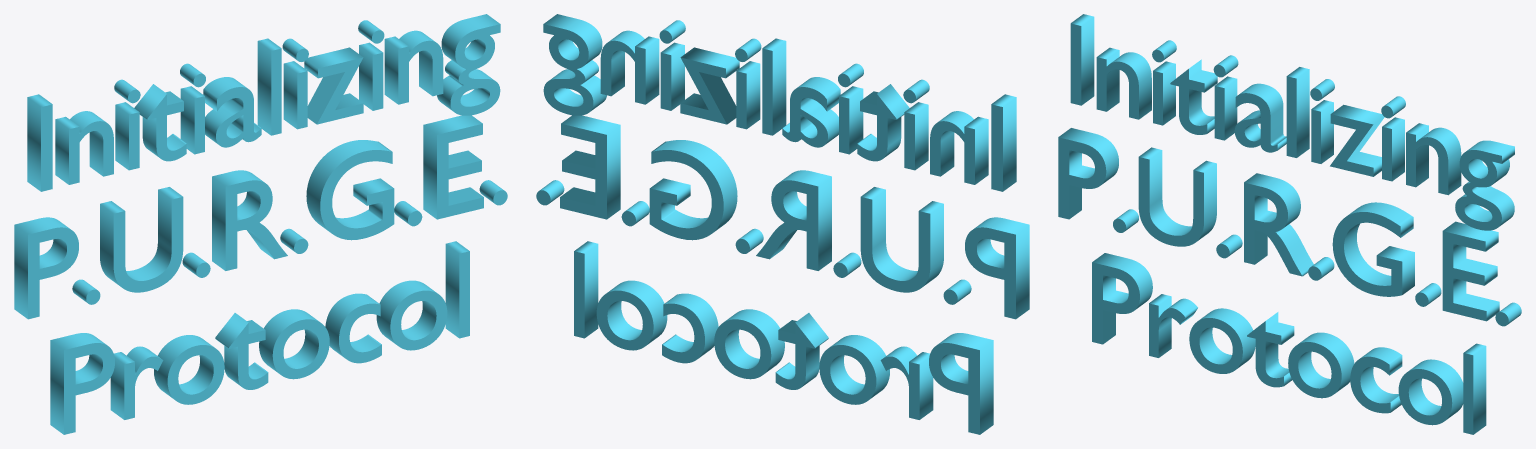
Rendered from console_initializing_purge.fbx.
3 views of the same model, side by side, from view 1: azimuth 30°, elevation 25°; view 2: azimuth 150°, elevation 25°; view 3: azimuth 330°, elevation 25° (orthographic). The views are drawn at different scales.
Visible parts, largest first — view 1: Txt_Test_01.032; view 2: Txt_Test_01.032; view 3: Txt_Test_01.032.
Part boxes in pixels (x1=…): Txt_Test_01.032: x1=14, y1=14, x2=507, y2=434; Txt_Test_01.032: x1=536, y1=14, x2=1029, y2=434; Txt_Test_01.032: x1=1058, y1=14, x2=1521, y2=434.
Size of the model in its own units: 0.834 by 0.5559 by 0.0413.
